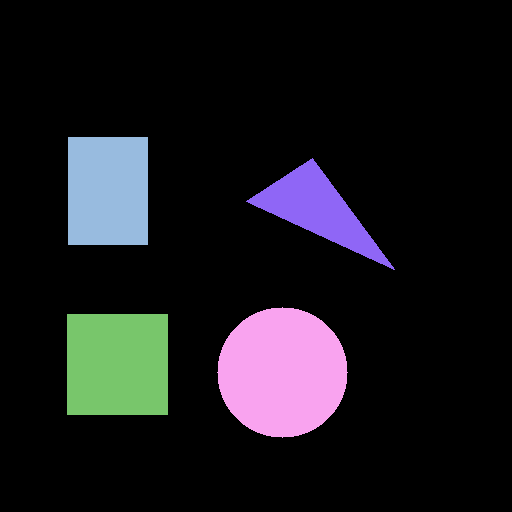circle: (217, 307, 347, 437)
rectangle: (68, 137, 147, 244)
square: (67, 314, 167, 414)
triangle: (246, 158, 394, 269)
